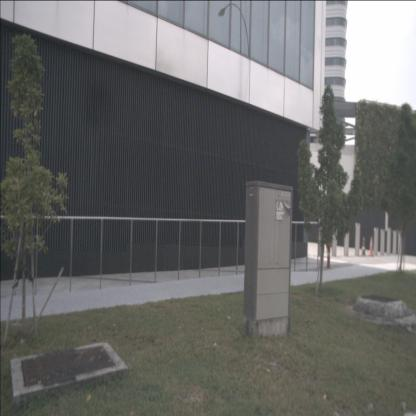cone: (360, 236, 367, 256), (368, 236, 374, 256)
